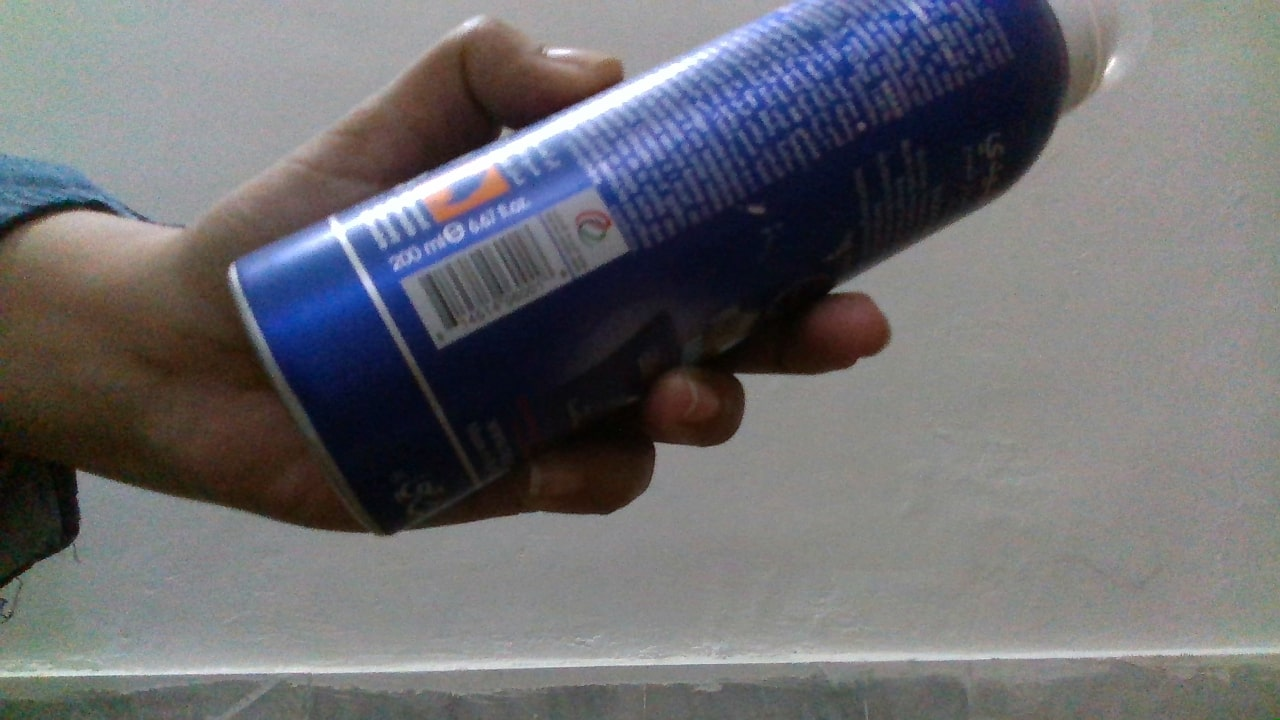Barcode: (416, 224, 555, 332)
